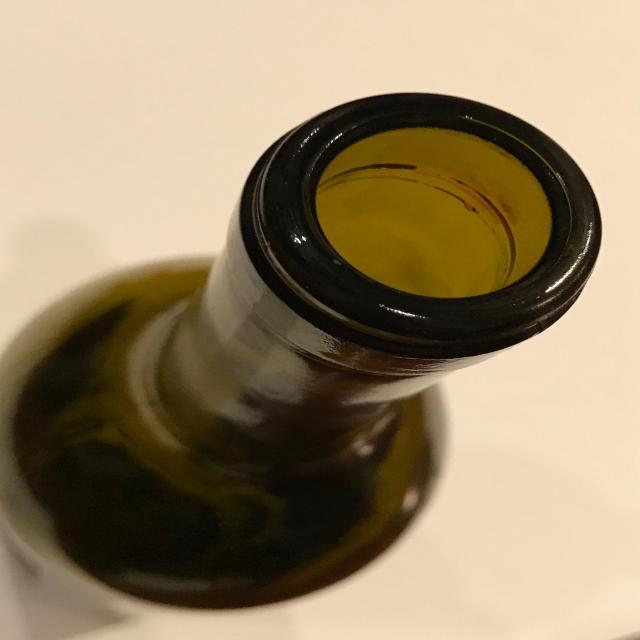glass: (1, 92, 603, 640)
